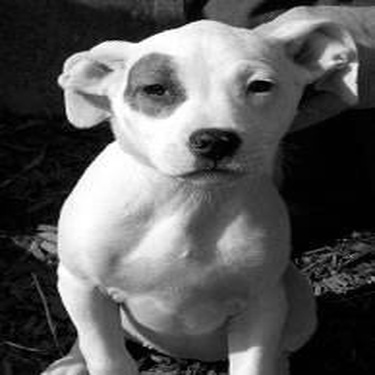dog: (43, 5, 362, 372)
